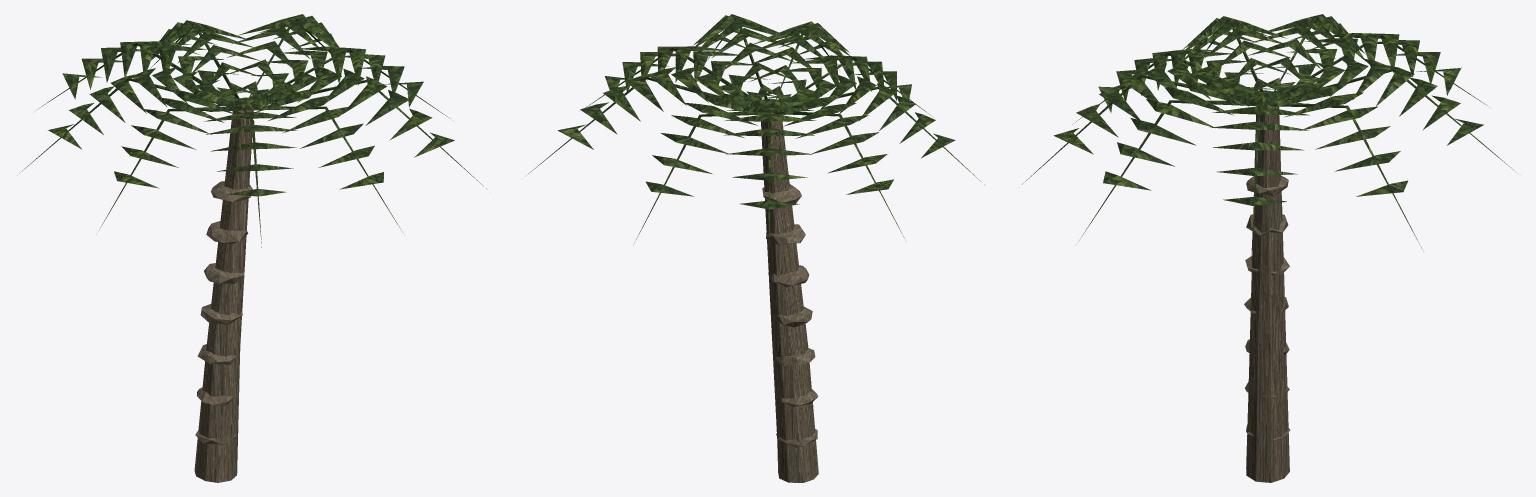
Rendered from tree_palm_b.gltf.
3 views of the same model, side by side, from view 1: azimuth 30°, elevation 25°; view 2: azimuth 150°, elevation 25°; view 3: azimuth 270°, elevation 25° (orthographic). The views are drawn at different scales.
Parts seen in each view (by area): view 1: tree_palm_b_game; view 2: tree_palm_b_game; view 3: tree_palm_b_game.
Boxes of the visible parts, left/top/right/bottom form: tree_palm_b_game: left=17, top=14, right=486, bottom=482; tree_palm_b_game: left=526, top=14, right=984, bottom=482; tree_palm_b_game: left=1022, top=14, right=1516, bottom=482.
Bounding box in the file's own units: 0.4865 × 0.4833 × 0.515.
2 materials, 2 textured.
